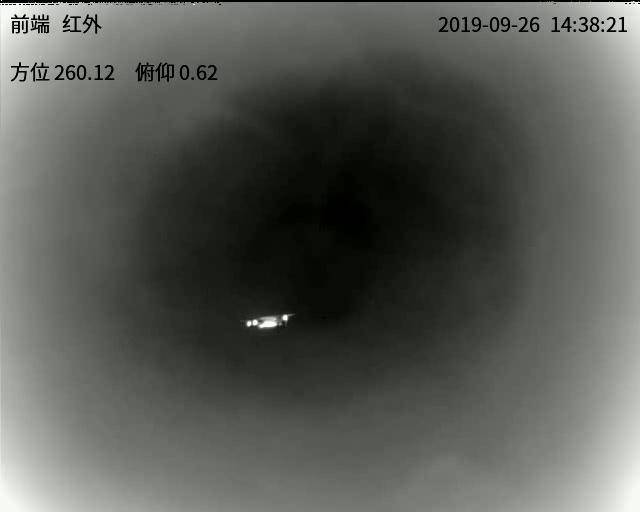DRONE: (241, 313, 297, 330)
